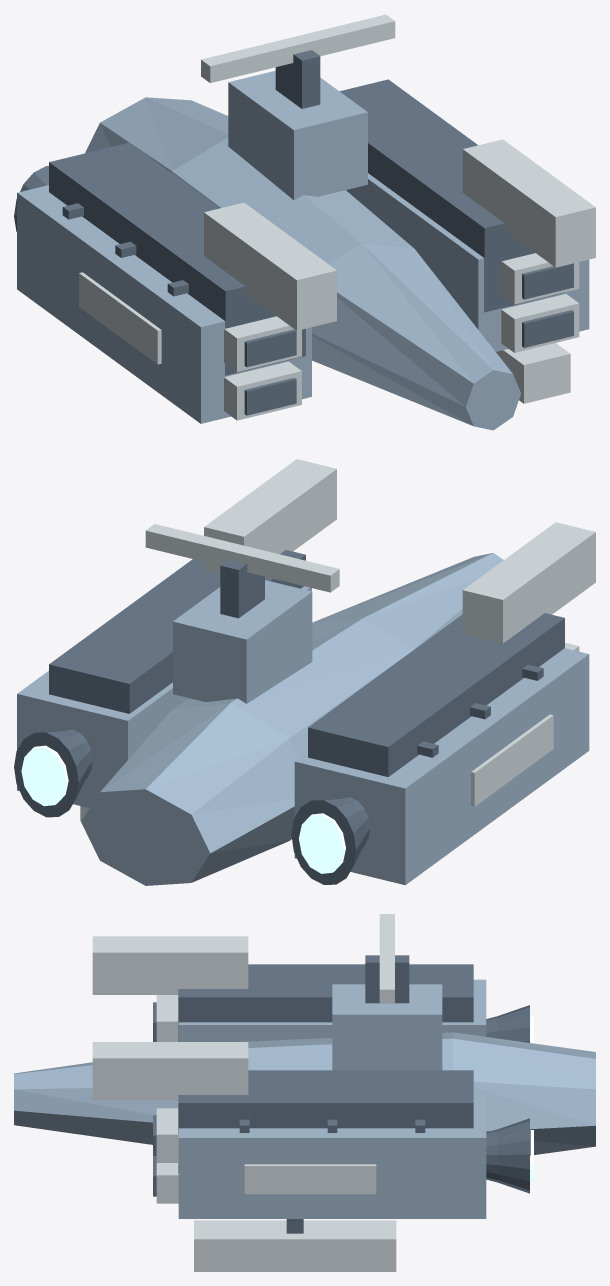
The picture shows the model from 3 angles, top to bottom: view 1: azimuth 30°, elevation 25°; view 2: azimuth 150°, elevation 25°; view 3: azimuth 270°, elevation 25°; orthographic projection. The views are drawn at different scales.
Bounding box in the file's own units: 9.83 × 7.26 × 14.97.
